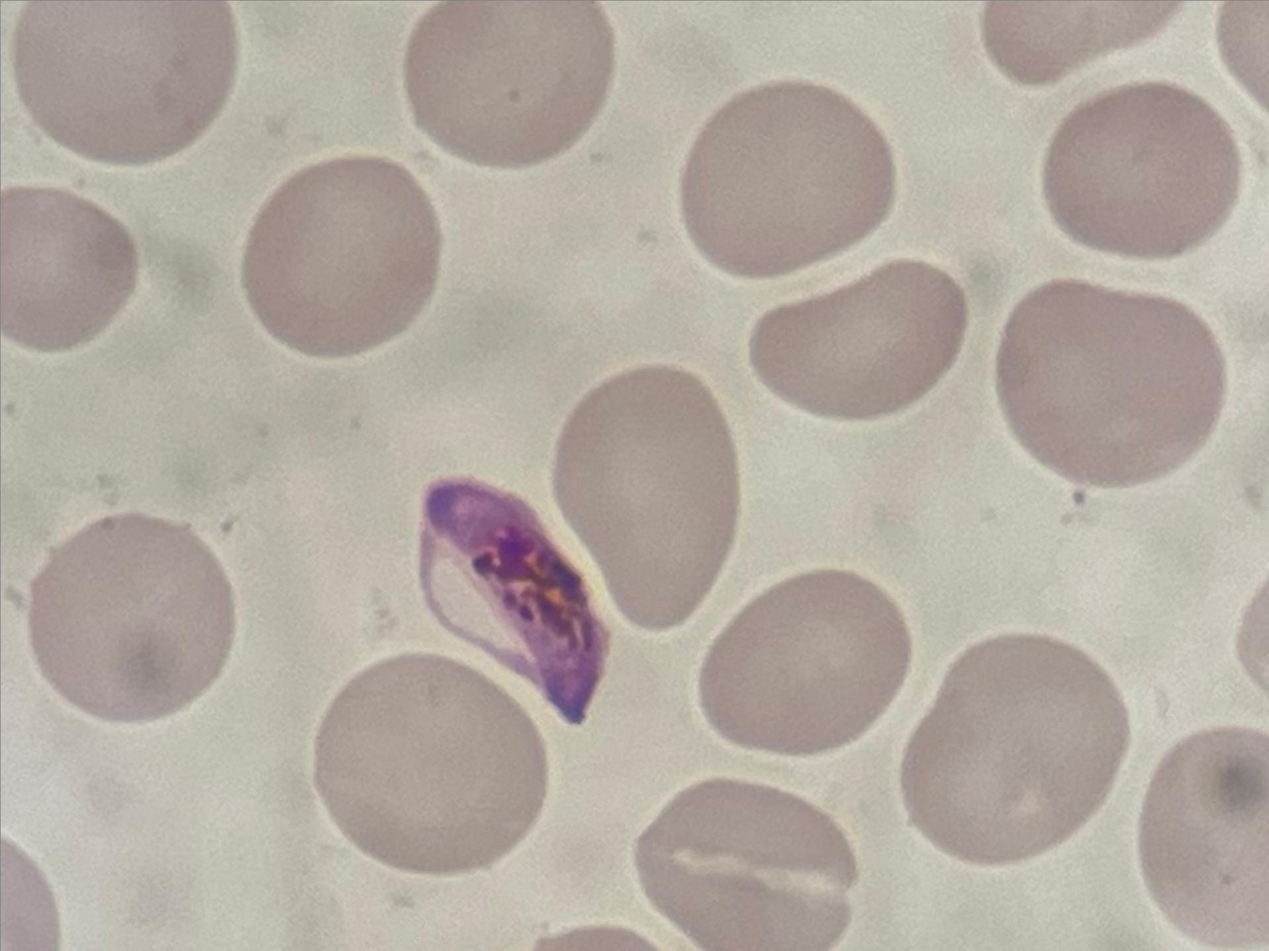Infected: (414, 481, 612, 722)
Uninfected: (899, 633, 1134, 874), (311, 653, 546, 877), (553, 366, 740, 630), (1000, 283, 1222, 489), (29, 514, 238, 724), (683, 82, 899, 282), (699, 565, 909, 759), (242, 157, 445, 356), (635, 774, 855, 951), (9, 1, 238, 165), (403, 0, 615, 174), (749, 263, 975, 421), (1049, 80, 1243, 255), (1140, 727, 1269, 951), (0, 184, 141, 352)
